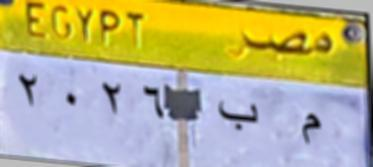0: (59, 83, 79, 115)
2: (13, 64, 43, 114), (101, 78, 124, 117)
6: (140, 82, 166, 120)
baa: (216, 96, 262, 135)
meem: (296, 107, 324, 152)
